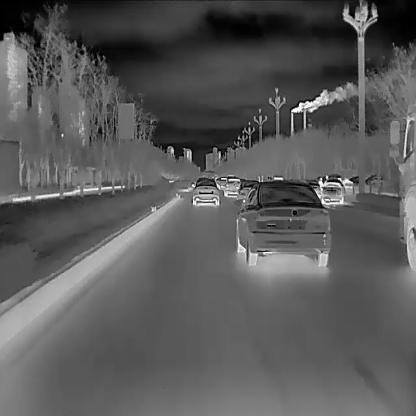car: (234, 181, 330, 267), (390, 51, 416, 275), (189, 177, 219, 208), (237, 180, 260, 204), (323, 179, 343, 206), (222, 178, 240, 197)
